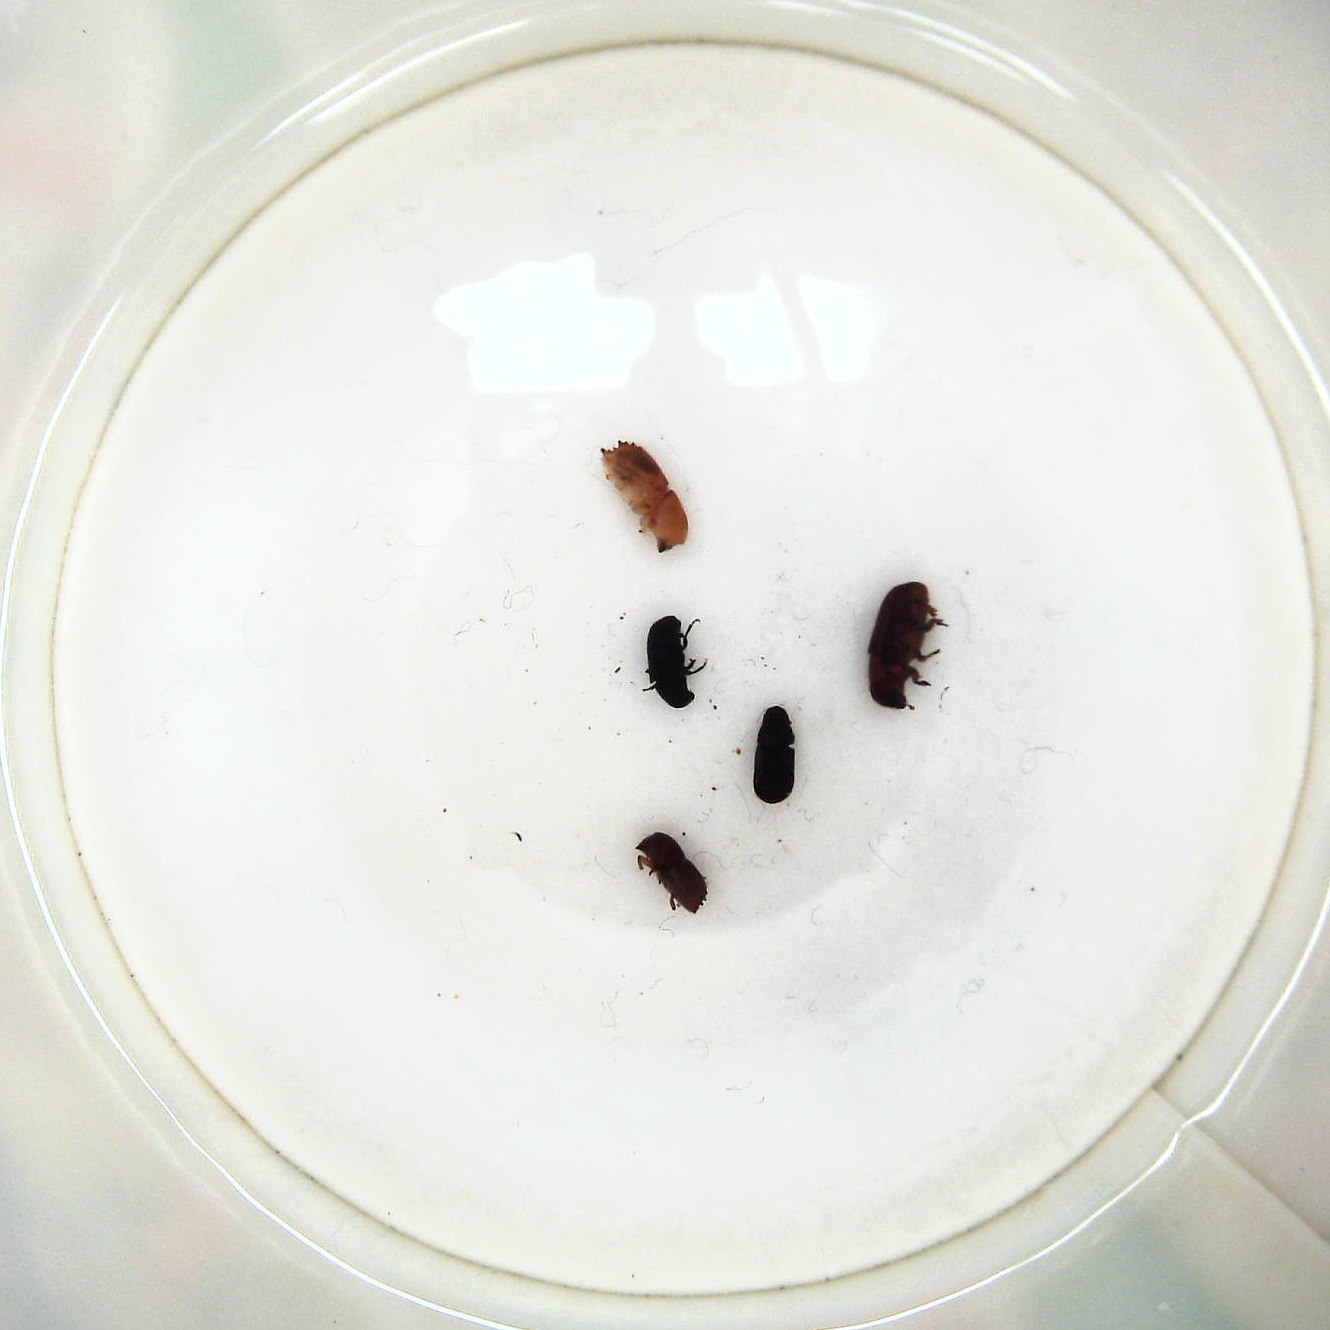Boerner: (596, 438, 691, 563)
Leconte: (867, 577, 948, 716)
armandi: (750, 704, 804, 809)
coleoptera: (638, 614, 702, 711)
linnaeus: (630, 833, 712, 920)
